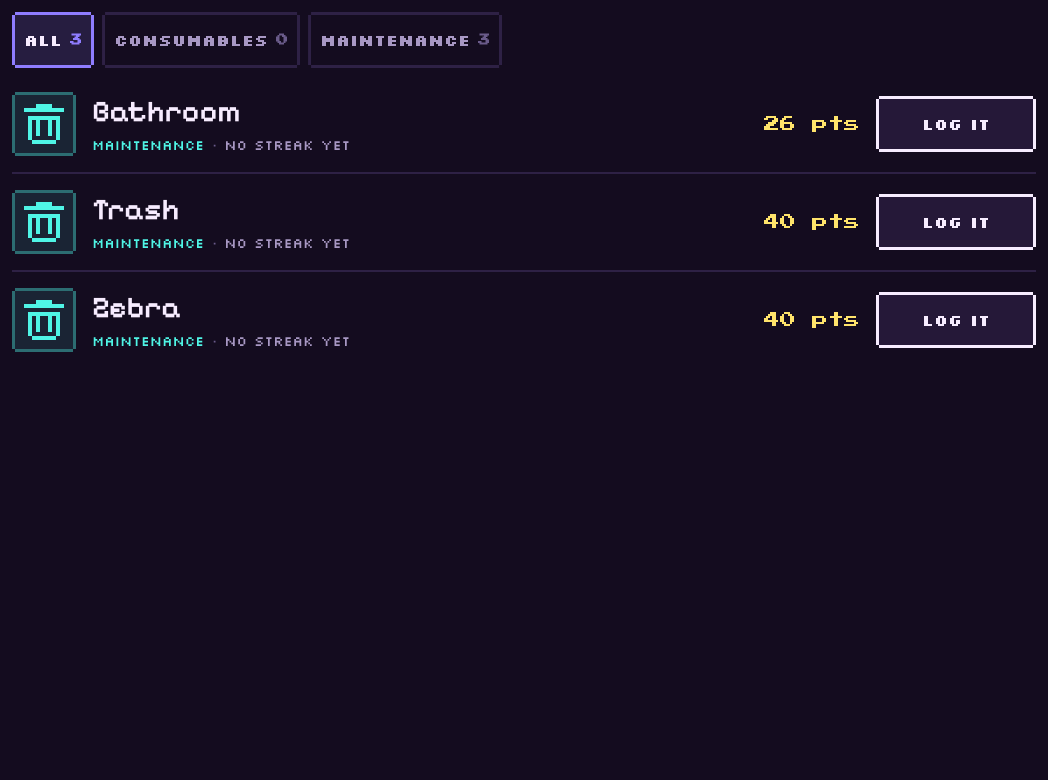
it: ChoreGrid's floating score (issue #181) › stays where the row was tapped when it re-sorts to the end, and nothing scrolls
Step 1. Click the button "Trash Maintenance · No streak yet 40 pts Log it" → (44, 222), box x1=12 y1=174 x2=1036 y2=270
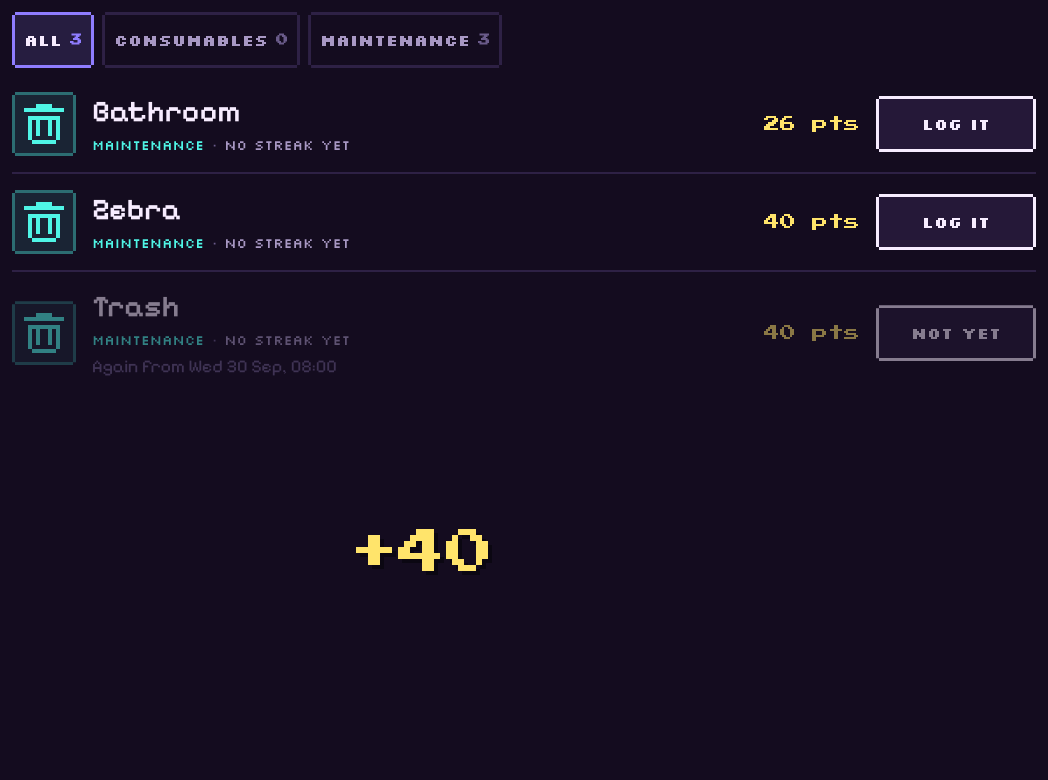
Now the text "Again from Wed 30 Sep, 08:00" is shown, box x1=92 y1=354 x2=337 y2=376
Now the button that starts with "Trash" shows "Not yet", box x1=12 y1=272 x2=1036 y2=394
Now the button that starts with "Trash" is disabled, box x1=12 y1=272 x2=1036 y2=394
